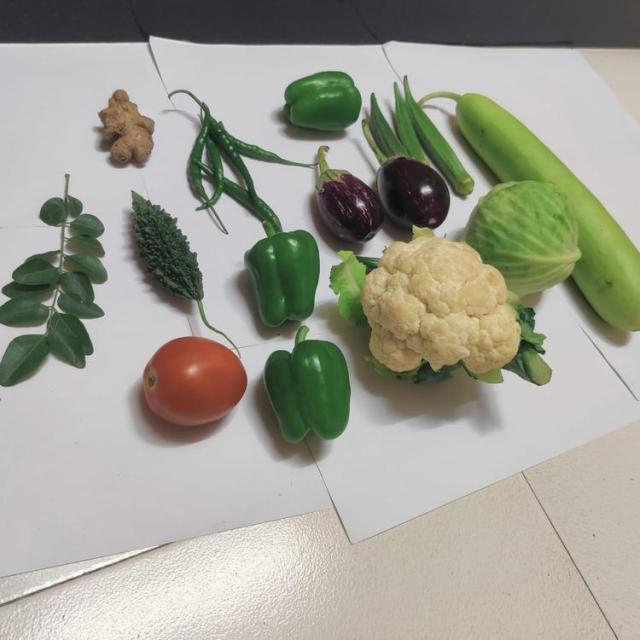Organik: (355, 234, 526, 380), (3, 172, 108, 387), (125, 185, 235, 344), (264, 326, 355, 456), (140, 333, 253, 435), (478, 176, 578, 291), (449, 84, 555, 189), (182, 100, 274, 219), (242, 222, 326, 325), (368, 81, 453, 162), (366, 140, 446, 226), (271, 68, 366, 136), (314, 146, 380, 243), (101, 82, 159, 175)
